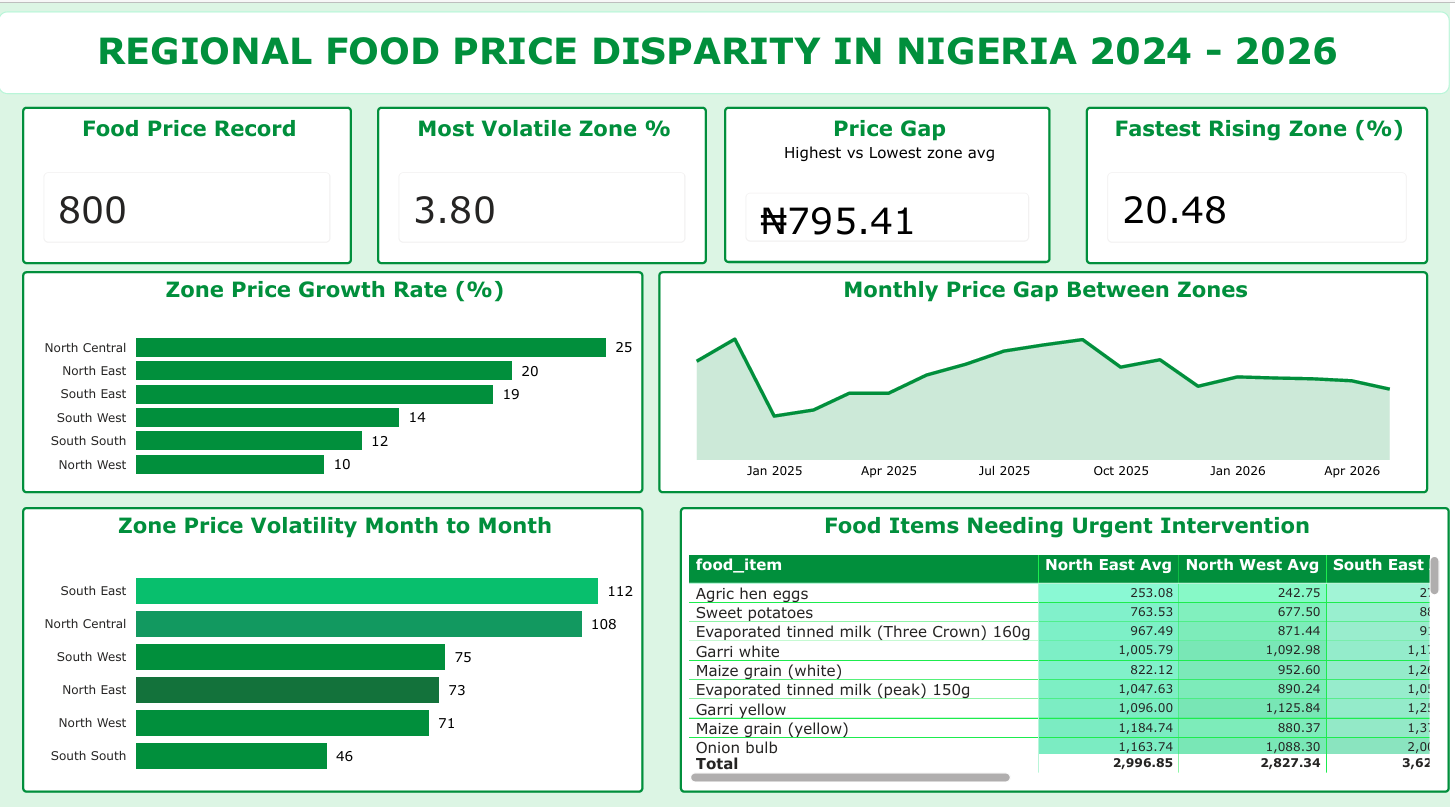

The page's visual inventory and layout, read from the dashboard file:
{"tool":"powerbi","page":{"name":"Page 2","canvas":[1280,720],"ordinal":1},"visuals":[{"type":"textbox","box":[0,15.9,1280.4,73.2],"z":0},{"type":"barChart","title":"Zone Price Growth Rate (%)","fields":{"Category":["Zone Growth Rate.Zone","Volatility.Zone"],"Y":["Sum(Zone Growth Rate.Growth Rate)"]},"box":[20.7,245,548.8,195.6],"z":1000},{"type":"lineChart","title":"Monthly Price Gap Between Zones","fields":{"Category":["food_prices.date.Variation.Date Hierarchy.Year","food_prices.date.Variation.Date Hierarchy.Month","food_prices.date.Variation.Date Hierarchy.Day"],"Y":["food_prices.Monthly Price Gap"]},"box":[582.2,245,679.2,195.6],"z":2000},{"type":"clusteredBarChart","title":"Zone Price Volatility Month to Month","fields":{"Category":["Table.Zone"],"Y":["Sum(Table.Volatility)"]},"box":[20.7,453.3,548.8,251.3],"z":3000},{"type":"pivotTable","title":"Food Items Needing Urgent Intervention","fields":{"Rows":["food_prices.food_item"],"Values":["food_prices.North East Avg","food_prices.North West Avg","food_prices.South East Avg","food_prices.South South Avg","food_prices.South West Avg","food_prices.North Central Avg"]},"box":[601.3,453.3,679.2,251.3],"z":4000},{"type":"cardVisual","title":"Fastest Rising Zone (%)","fields":{"Data":["food_prices.Fastest Rising Zone"]},"box":[959.1,100.2,302.2,138.4],"z":5000},{"type":"cardVisual","title":"Most Volatile Zone % ","fields":{"Data":["food_prices.Most Volatile Zone %"]},"box":[334,100.2,291.1,138.4],"z":6000},{"type":"cardVisual","title":"Food Price Record","fields":{"Data":["food_prices.Observation Count"]},"box":[20.7,100.2,291.1,138.4],"z":7000},{"type":"cardVisual","title":"Price Gap","fields":{"Data":["food_prices.Price Gap"]},"box":[640,100,287.9,138.4],"z":8000}]}

Visuals, with their boxes in screenshot pixels (x1, y1, x2, y2), scaled from the page's 1280x720 canvas onto the 1455x807 screenshot:
textbox: (0, 18, 1454, 100)
"Zone Price Growth Rate (%)" barChart: (24, 275, 647, 494)
"Monthly Price Gap Between Zones" lineChart: (662, 275, 1434, 494)
"Zone Price Volatility Month to Month" clusteredBarChart: (24, 508, 647, 790)
"Food Items Needing Urgent Intervention" pivotTable: (684, 508, 1454, 790)
"Fastest Rising Zone (%)" cardVisual: (1090, 112, 1434, 267)
"Most Volatile Zone % " cardVisual: (380, 112, 711, 267)
"Food Price Record" cardVisual: (24, 112, 354, 267)
"Price Gap" cardVisual: (728, 112, 1055, 267)
